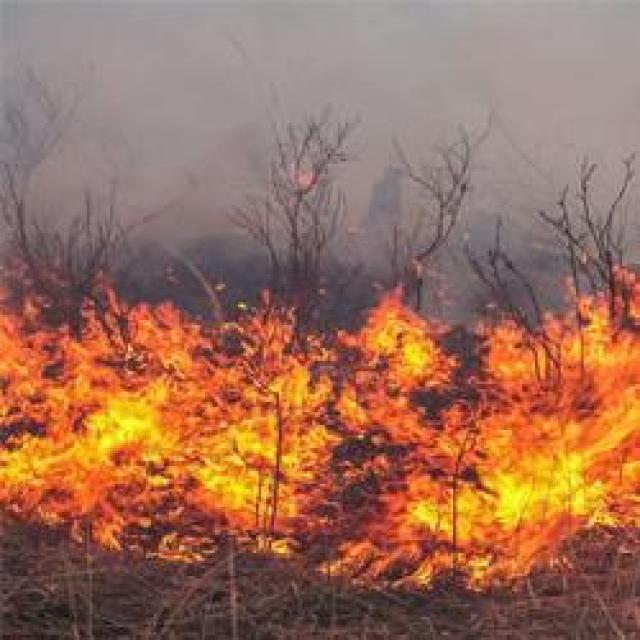Fire: (12, 280, 614, 610), (472, 269, 638, 532), (338, 386, 366, 432)
Smoke: (29, 17, 640, 229)
